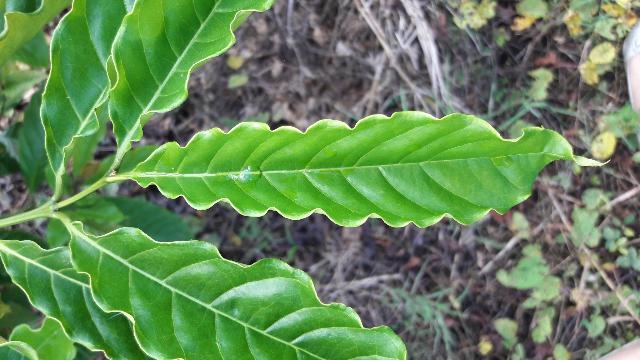healthy: (127, 107, 579, 228)
